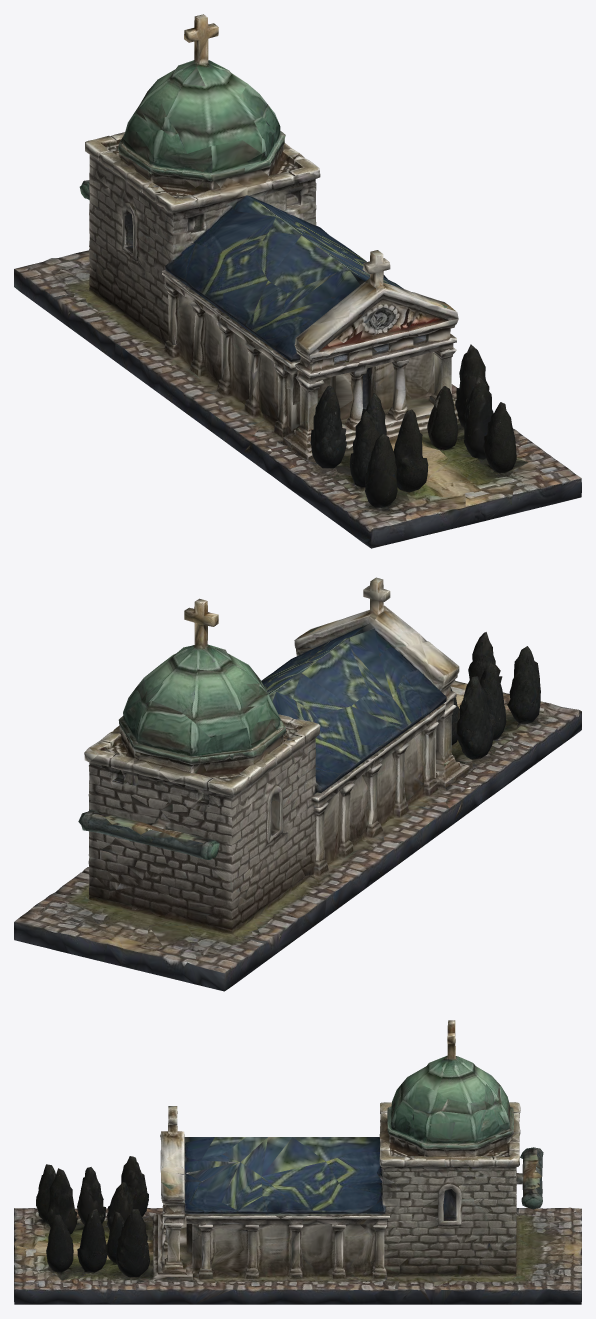
The model's file is cappella.glb.
3 views of the same model, one above another, from view 1: azimuth 30°, elevation 25°; view 2: azimuth 150°, elevation 25°; view 3: azimuth 270°, elevation 25° (orthographic). The views are drawn at different scales.
Size of the model in its own units: 0.6493 by 0.8955 by 1.9.
1 material, 1 textured.
